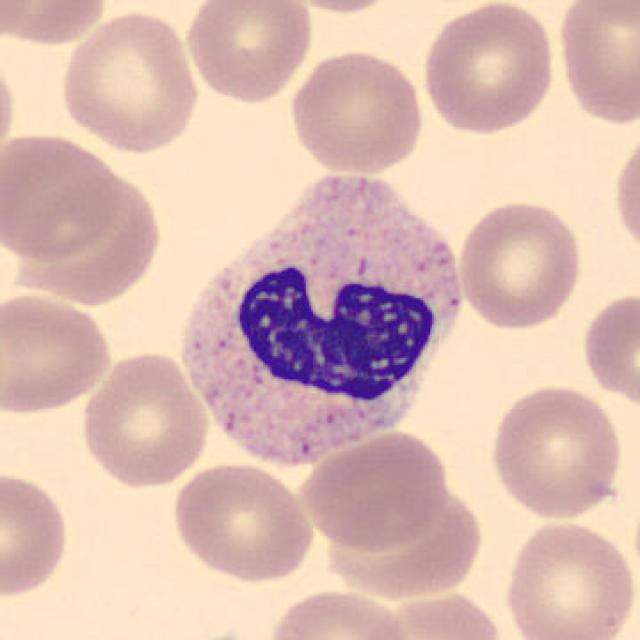Neutrophil: (169, 157, 473, 479)
RBC: (7, 160, 165, 308), (55, 7, 203, 157), (313, 481, 487, 603), (486, 381, 628, 524), (76, 347, 214, 490), (418, 0, 560, 138), (295, 428, 452, 552), (284, 46, 428, 176), (453, 196, 587, 333), (169, 460, 316, 584), (499, 516, 638, 640), (2, 129, 124, 266), (0, 289, 116, 418), (182, 0, 316, 106), (553, 0, 640, 129), (0, 467, 73, 601), (263, 585, 413, 640), (364, 587, 508, 640), (578, 287, 638, 411), (0, 0, 112, 49), (610, 125, 640, 263), (0, 49, 20, 170), (270, 0, 409, 16)
